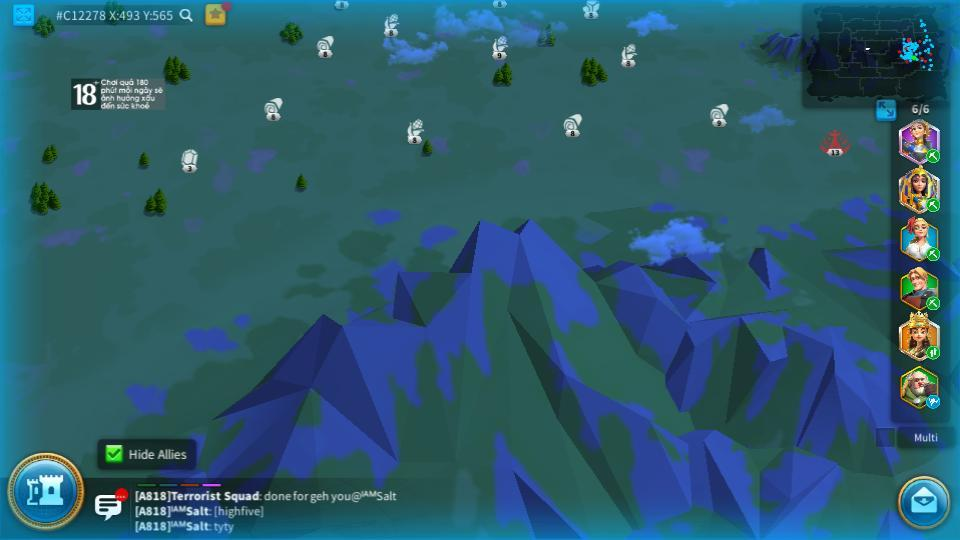gem-z-out: (178, 148, 201, 171)
march_idle: (925, 394, 942, 408)
march_marching: (924, 197, 939, 212), (925, 345, 941, 359), (924, 149, 939, 162), (926, 297, 941, 308)
